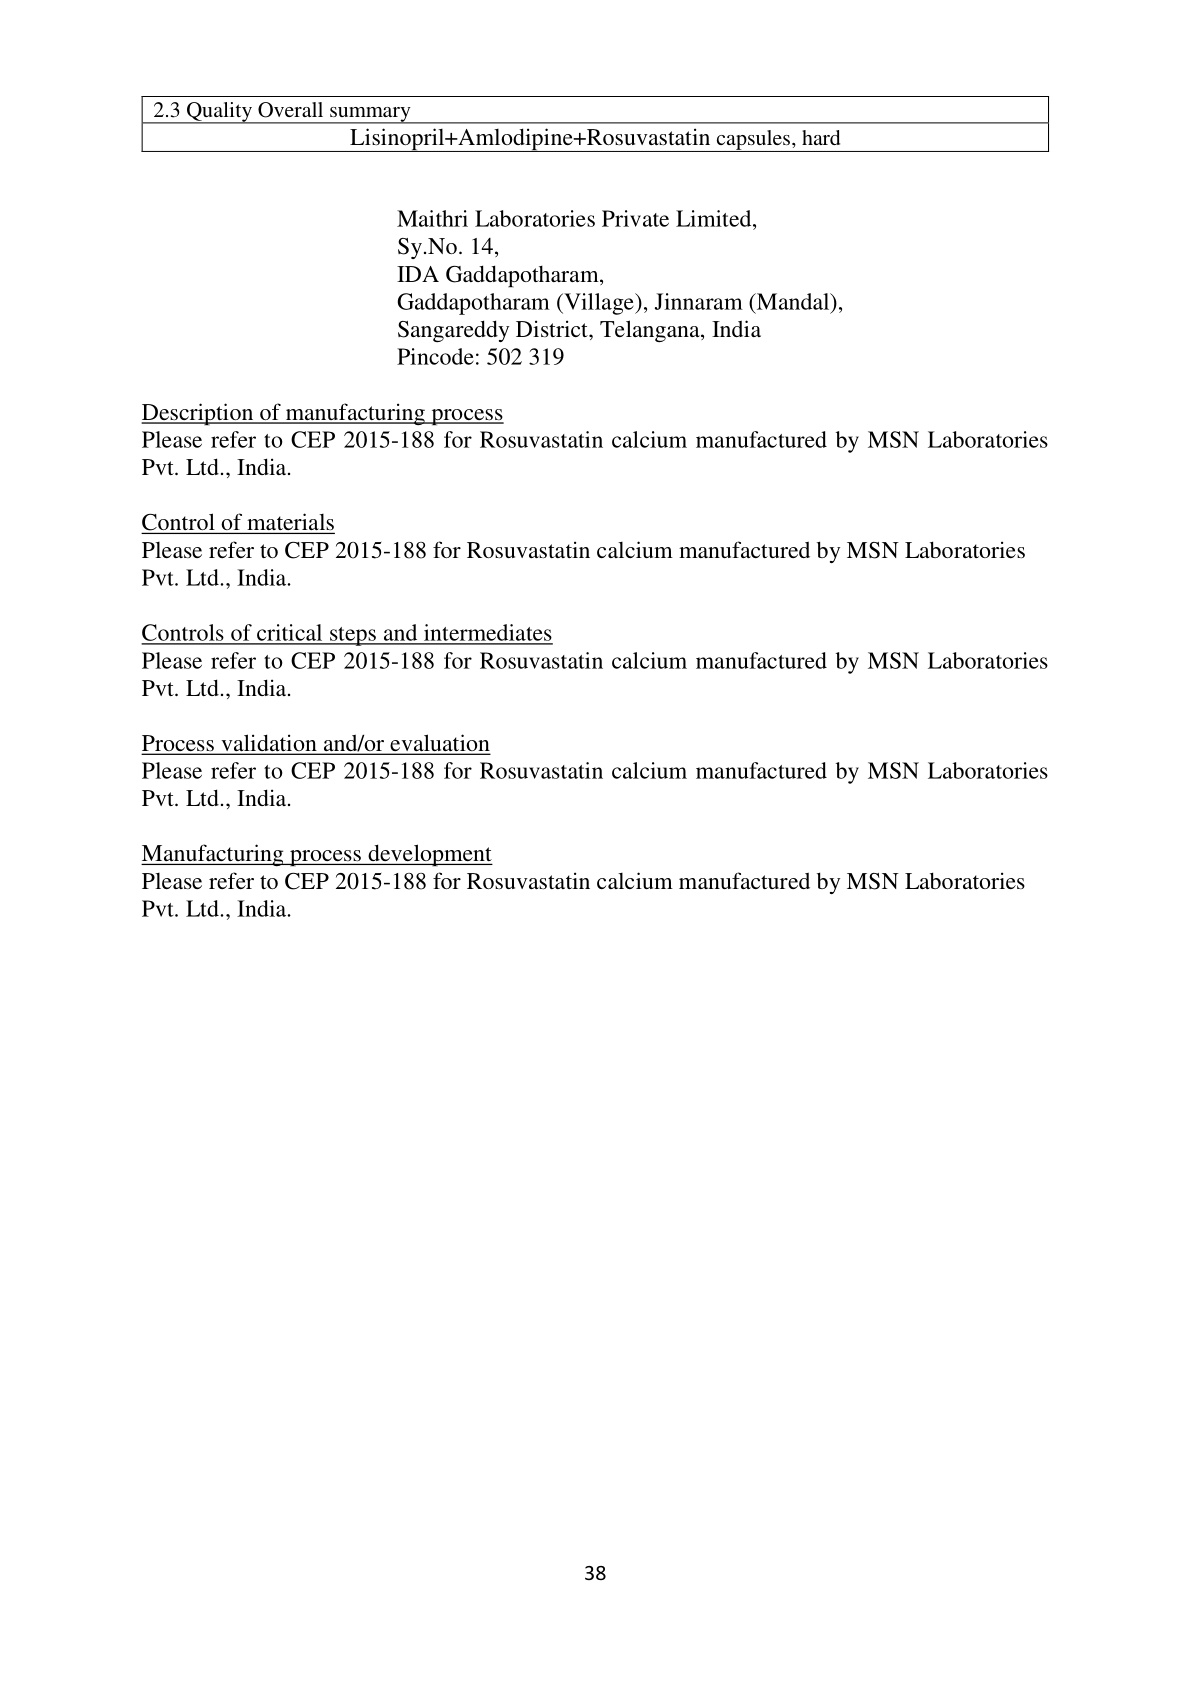merged_cells: (140, 94, 1049, 152)
